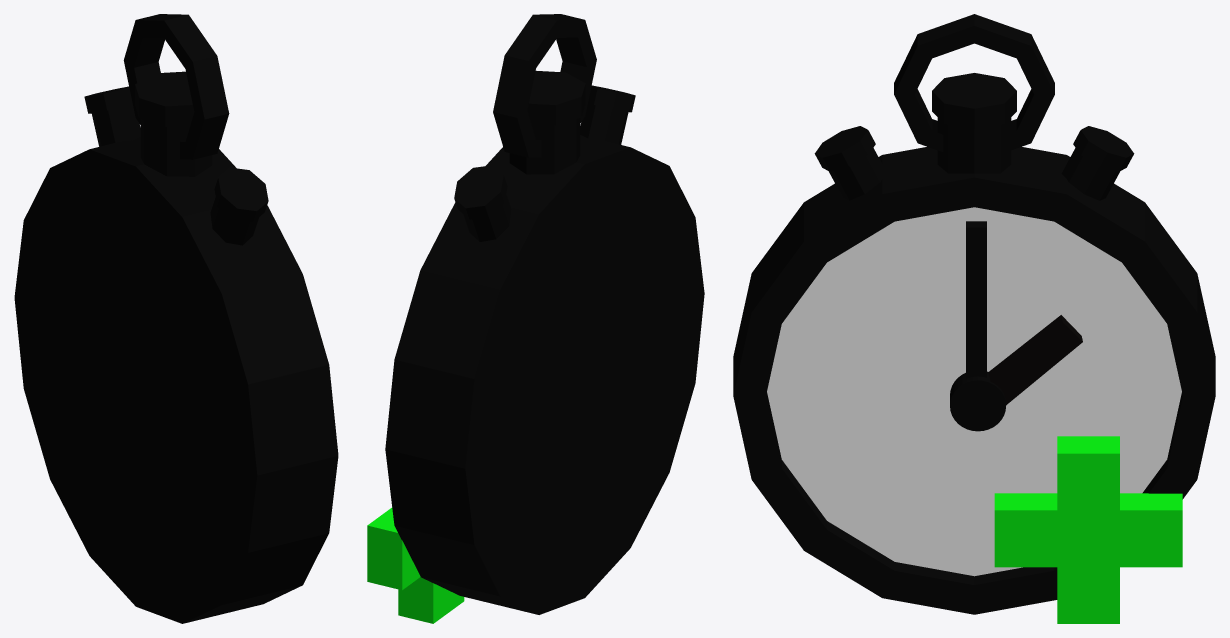
The model's file is time_power.fbx.
3 renders of one model, left to right at view 1: azimuth 30°, elevation 25°; view 2: azimuth 150°, elevation 25°; view 3: azimuth 270°, elevation 25°, orthographic.
Visible parts, largest first — view 1: Cylinder, Cylinder.003, Cylinder.002, Cylinder.001; view 2: Cylinder, Cylinder.003, Cylinder.002, Cylinder.001, Cube.002; view 3: Cylinder, Cube.002, Cylinder.003, Cylinder.001, Cylinder.002, Cube.001, Cube, Cylinder.004.
Part boxes in pixels (x1,y1,x2,y2): Cylinder: (14, 137, 338, 623); Cylinder.003: (123, 14, 229, 159); Cylinder.002: (84, 86, 268, 245); Cylinder.001: (135, 71, 212, 176); Cylinder: (385, 135, 704, 614); Cylinder.003: (493, 14, 596, 157); Cylinder.002: (454, 85, 635, 241); Cylinder.001: (509, 70, 585, 174); Cube.002: (367, 507, 464, 623); Cylinder: (733, 146, 1215, 614); Cube.002: (994, 436, 1182, 623); Cylinder.003: (894, 14, 1054, 151); Cylinder.001: (932, 73, 1016, 173); Cylinder.002: (814, 126, 1134, 200); Cube.001: (988, 315, 1082, 404); Cube: (966, 221, 986, 378); Cylinder.004: (950, 371, 1006, 431).
Bounding box in the file's own units: 0.2757 × 1.32 × 1.
